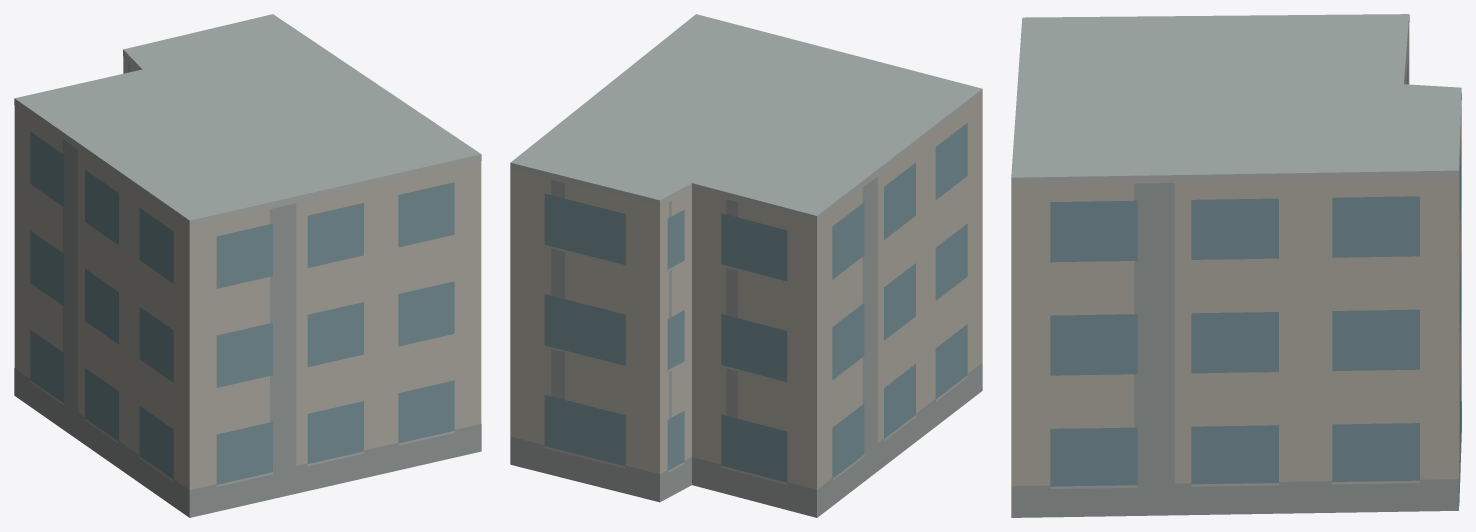
Rendered from residential-8b8ed9ce-a54d-4a7c-bd60-7c125e24f2b4.glb.
3 renders of one model, left to right at view 1: azimuth 30°, elevation 25°; view 2: azimuth 150°, elevation 25°; view 3: azimuth 270°, elevation 25°, orthographic. The views are drawn at different scales.
Parts seen in each view (by area): view 1: residential-8b8ed9ce-a54d-4a7c-bd60-7c125e24f2b4.tmp; view 2: residential-8b8ed9ce-a54d-4a7c-bd60-7c125e24f2b4.tmp; view 3: residential-8b8ed9ce-a54d-4a7c-bd60-7c125e24f2b4.tmp.
Boxes of the visible parts, box(x1,y1,x2,y2) form: residential-8b8ed9ce-a54d-4a7c-bd60-7c125e24f2b4.tmp: box(14, 14, 481, 517); residential-8b8ed9ce-a54d-4a7c-bd60-7c125e24f2b4.tmp: box(510, 14, 982, 517); residential-8b8ed9ce-a54d-4a7c-bd60-7c125e24f2b4.tmp: box(1011, 14, 1461, 517).
Size of the model in its own units: 10.95 by 10.6 by 12.74.
